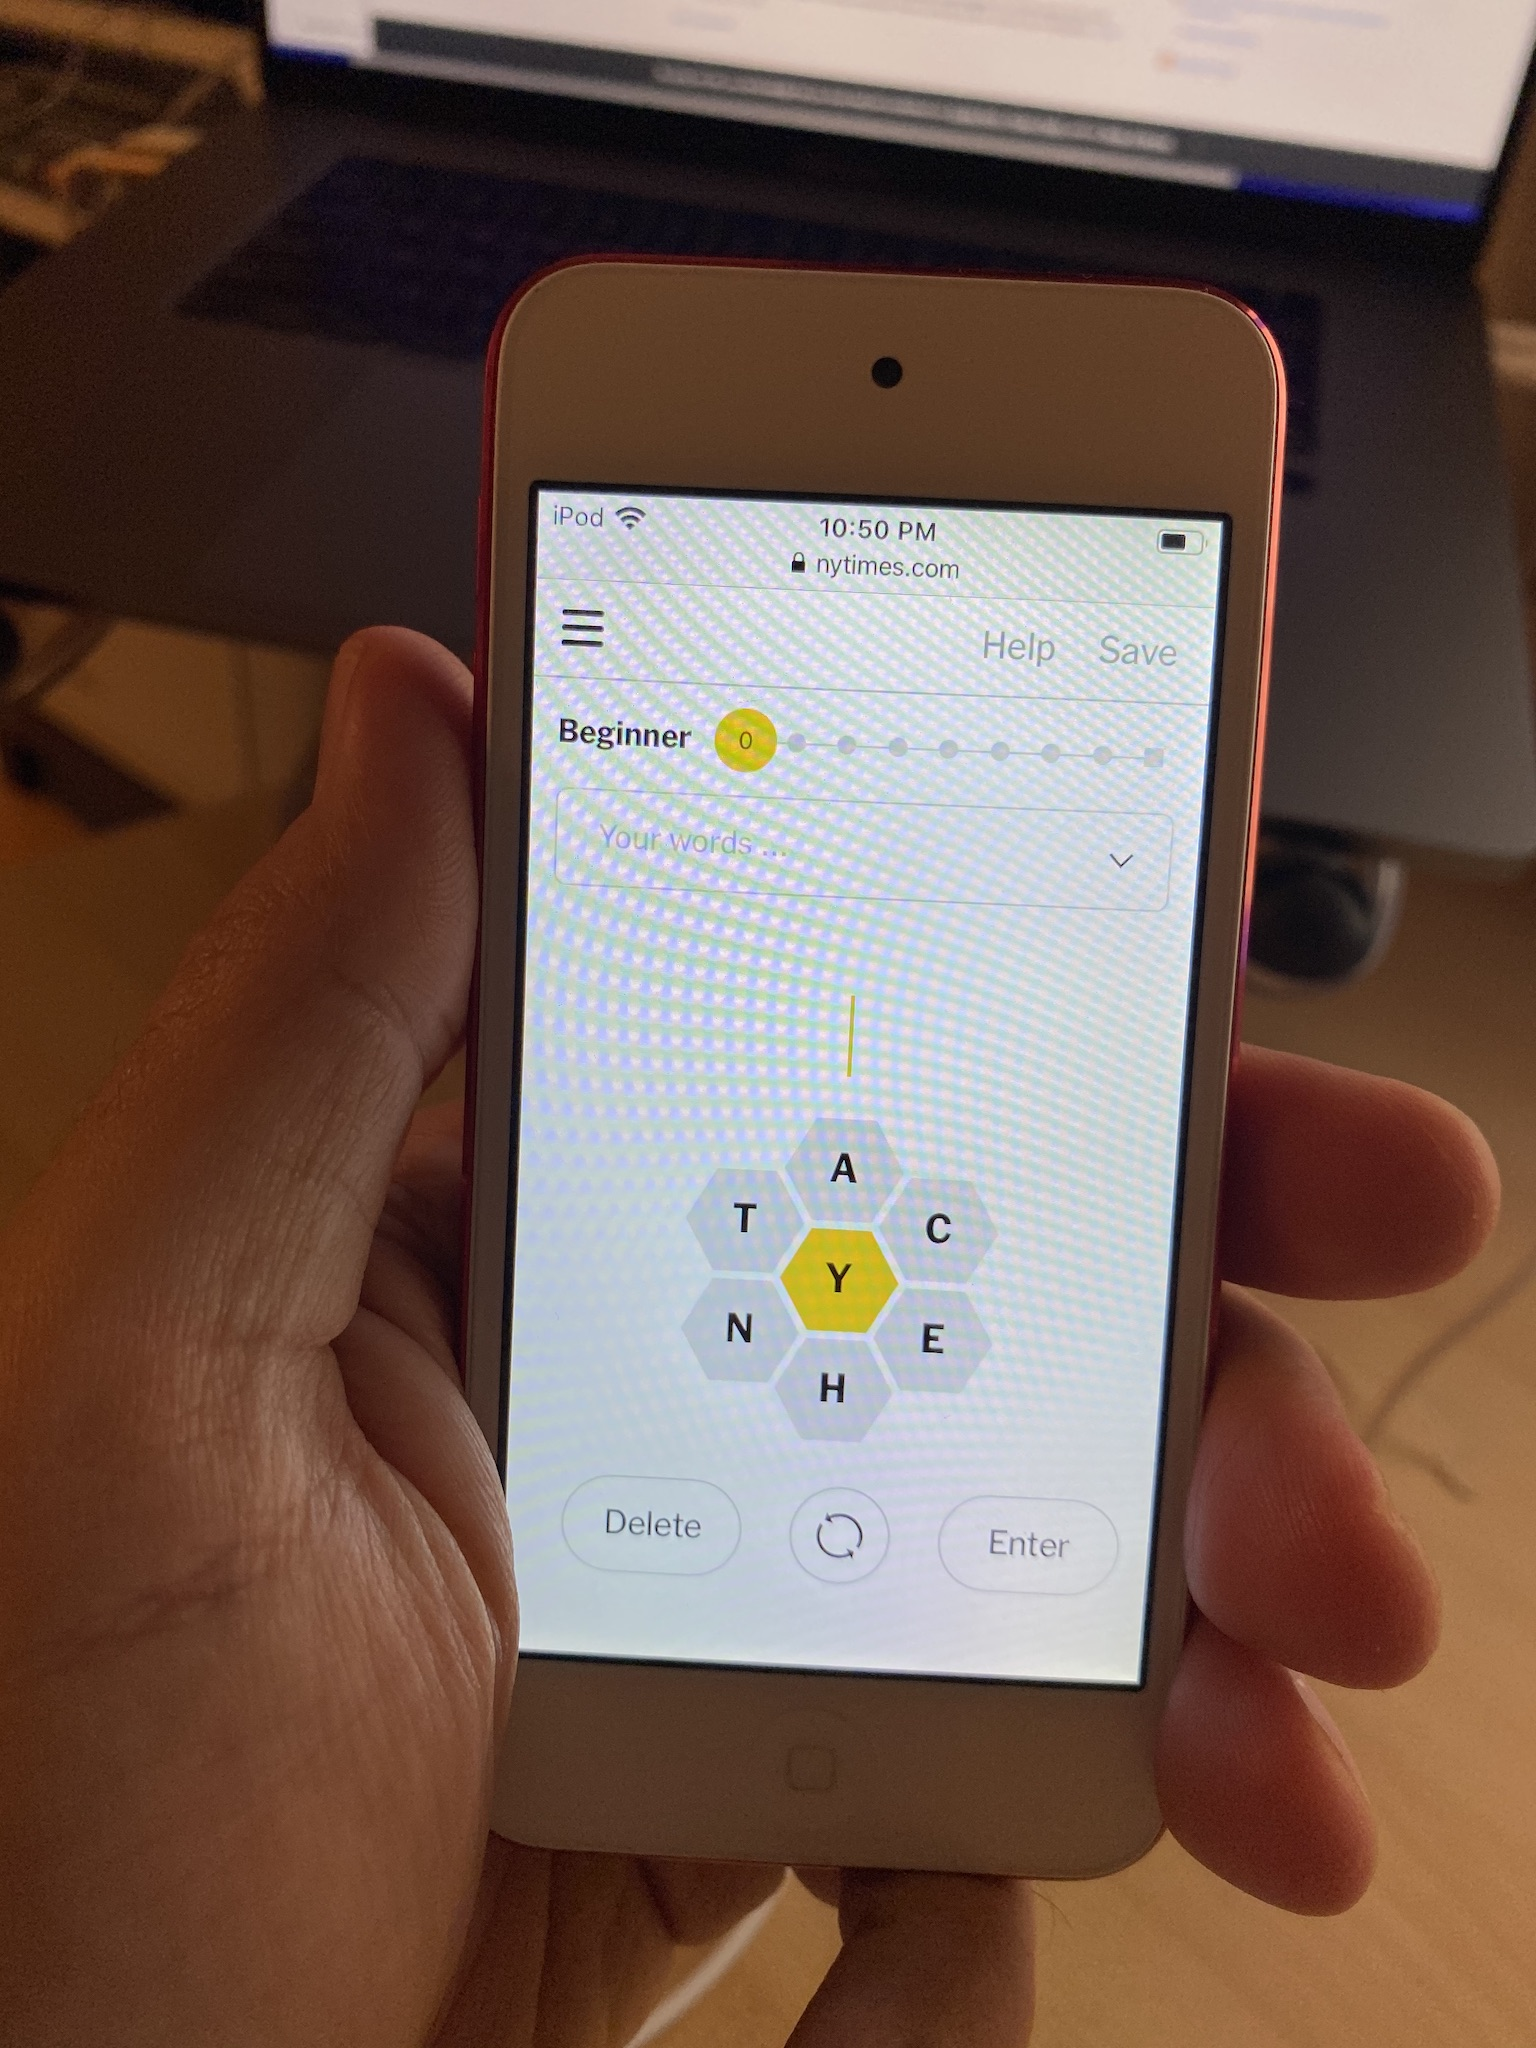Board: (666, 1108, 1023, 1471)
